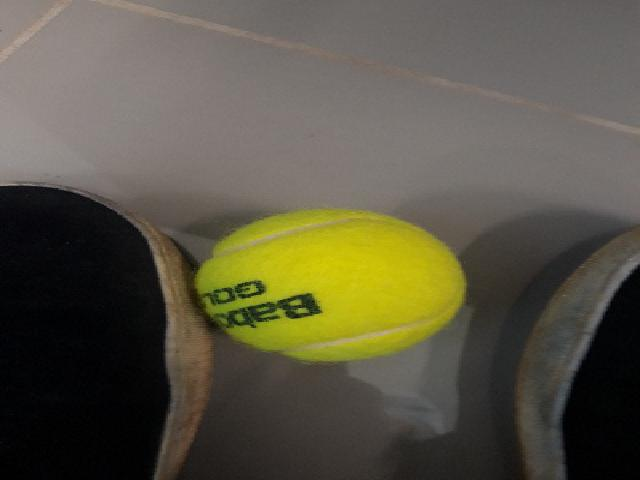Ball: (190, 206, 466, 364)
